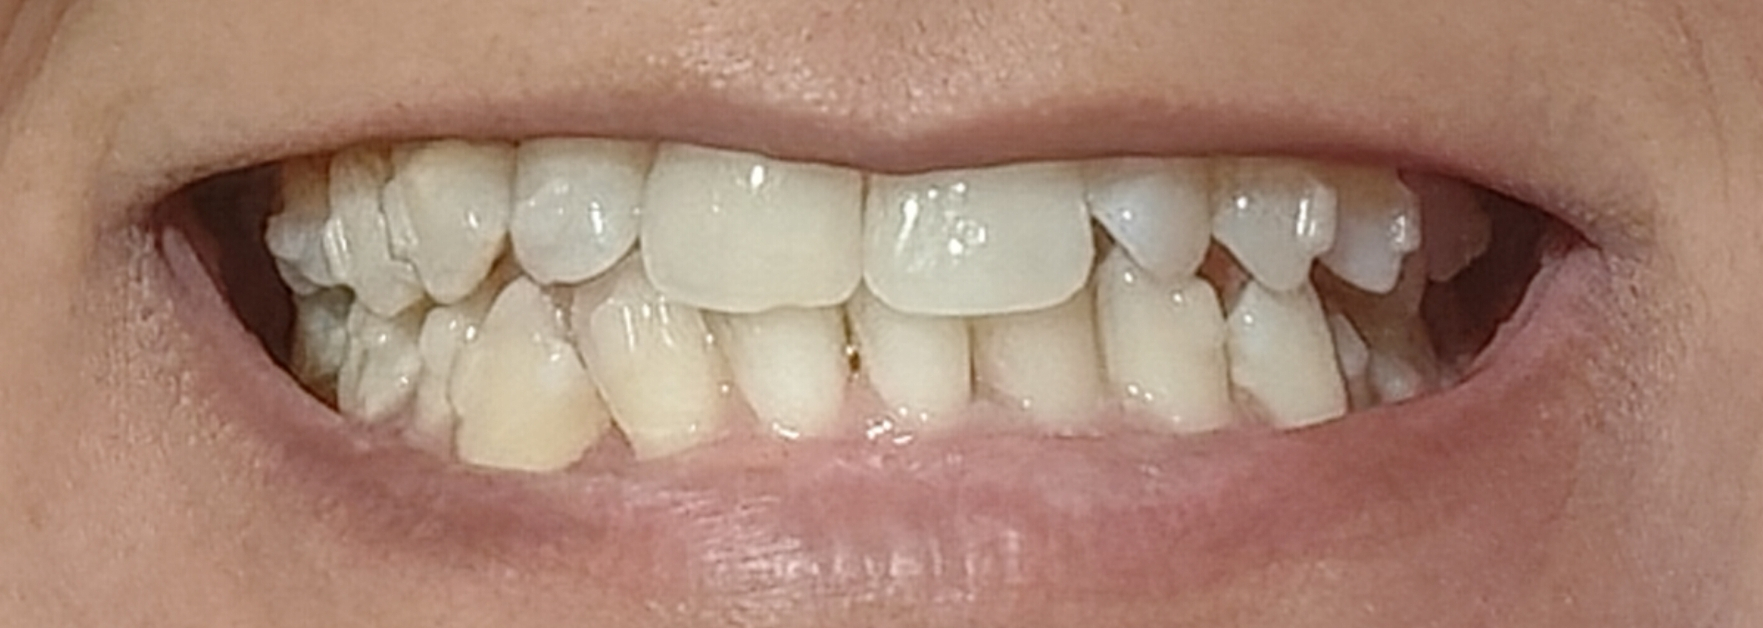teeth: (658, 148, 861, 292), (877, 158, 1085, 298), (459, 286, 607, 453), (1107, 263, 1233, 431), (596, 272, 703, 439), (521, 148, 650, 282), (1085, 152, 1213, 282), (383, 149, 495, 299), (718, 310, 846, 434), (987, 293, 1096, 418), (861, 319, 967, 434), (1229, 161, 1320, 293)
